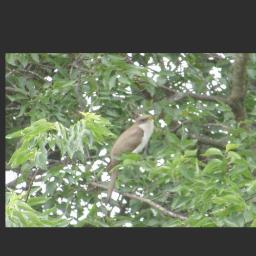Cuckoo: (102, 111, 162, 208)
